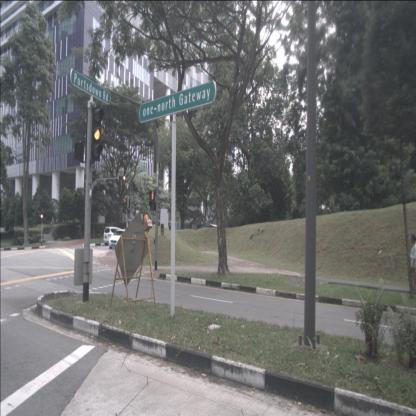human-pedestrian-adult: (408, 234, 416, 292), (51, 215, 55, 231)
vehicle-car: (109, 228, 132, 249), (103, 226, 127, 246)
